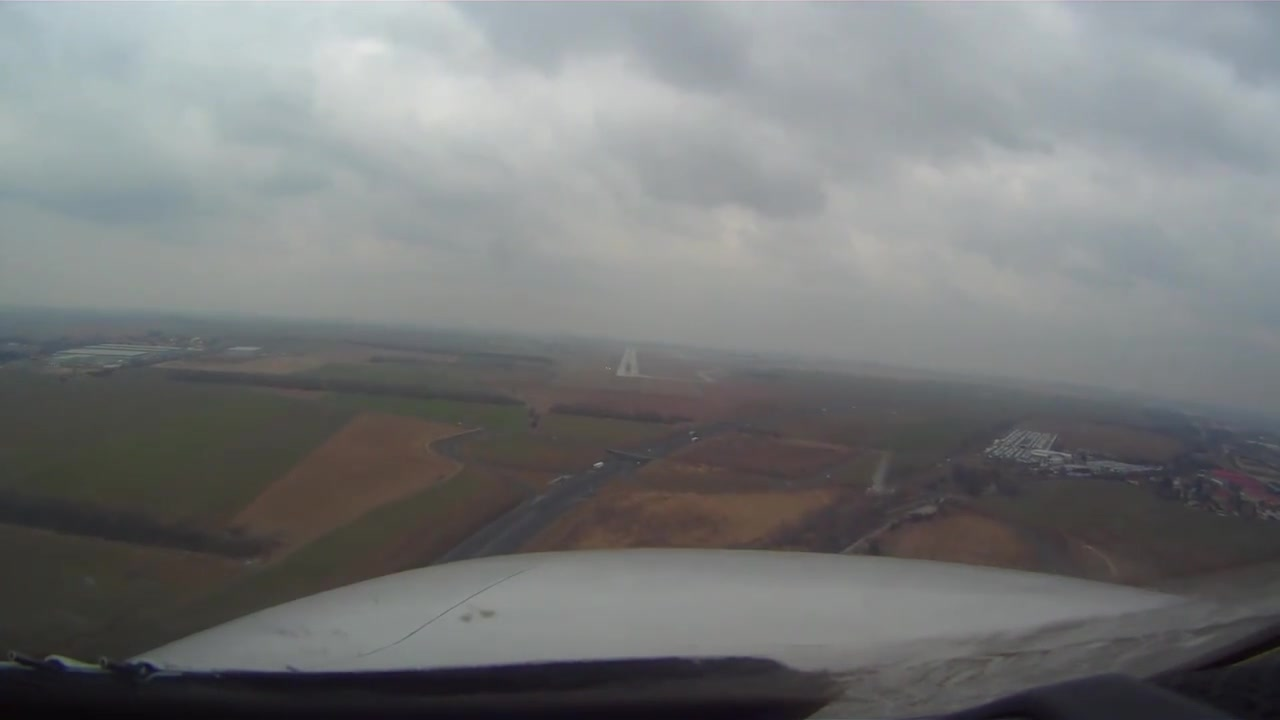runway: (614, 344, 641, 379)
